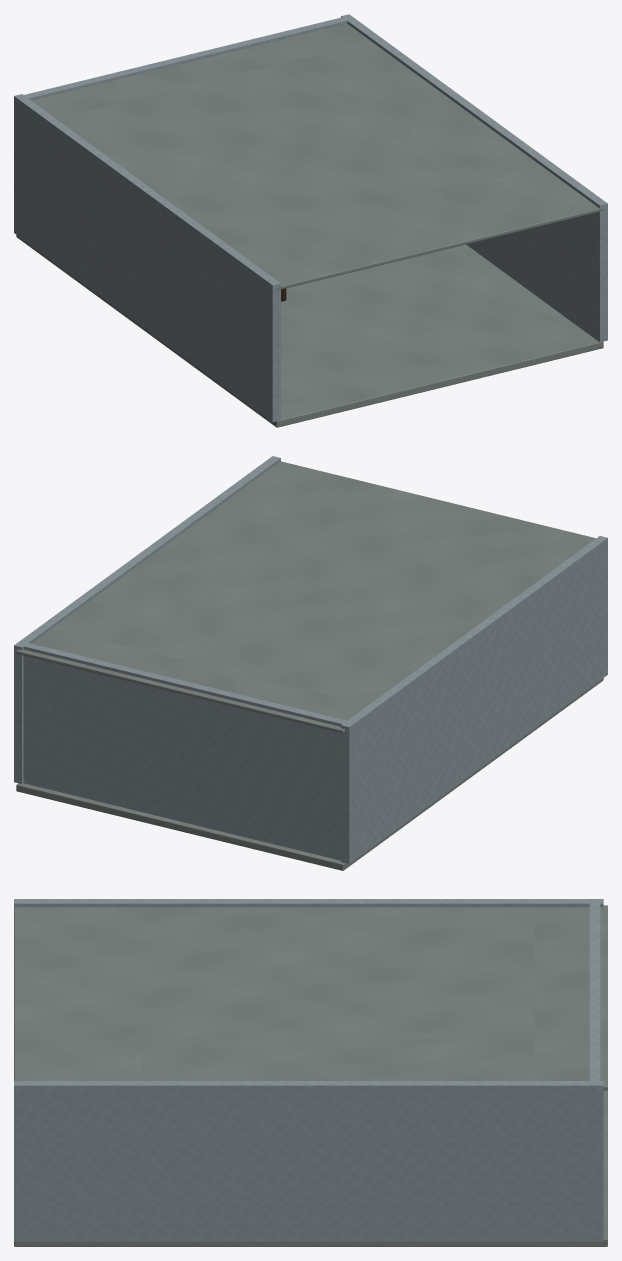
File: basement.glb
The picture shows the model from 3 angles, top to bottom: view 1: azimuth 30°, elevation 25°; view 2: azimuth 150°, elevation 25°; view 3: azimuth 270°, elevation 25°; orthographic projection. The views are drawn at different scales.
Parts seen in each view (by area): view 1: Basement ceiling, Basement painted masonry side wall, Concrete slab, Basement painted masonry side wall.001, Basement painted masonry rear wall; view 2: Basement ceiling, Basement painted masonry rear wall, Basement painted masonry side wall, Basement painted masonry side wall.001, Concrete slab; view 3: Basement ceiling, Basement painted masonry side wall.001, Basement painted masonry side wall, Concrete slab, Basement painted masonry rear wall.
Part boxes in pixels (x1,y1,x2,y2): Basement ceiling: [31, 24, 603, 289]; Basement painted masonry side wall: [14, 94, 280, 421]; Concrete slab: [16, 235, 603, 427]; Basement painted masonry side wall.001: [341, 14, 607, 342]; Basement painted masonry rear wall: [20, 16, 350, 100]; Basement ceiling: [16, 461, 595, 733]; Basement painted masonry rear wall: [20, 642, 350, 860]; Basement painted masonry side wall: [341, 536, 607, 863]; Basement painted masonry side wall.001: [14, 456, 280, 783]; Concrete slab: [16, 678, 603, 870]; Basement ceiling: [14, 905, 607, 1090]; Basement painted masonry side wall.001: [14, 1081, 603, 1241]; Basement painted masonry side wall: [14, 899, 603, 907]; Concrete slab: [14, 1090, 607, 1246]; Basement painted masonry rear wall: [589, 901, 600, 1083].
Size of the model in its own units: 10.25 by 4.2 by 13.8.
Materials: 40 (39 with a texture image).
